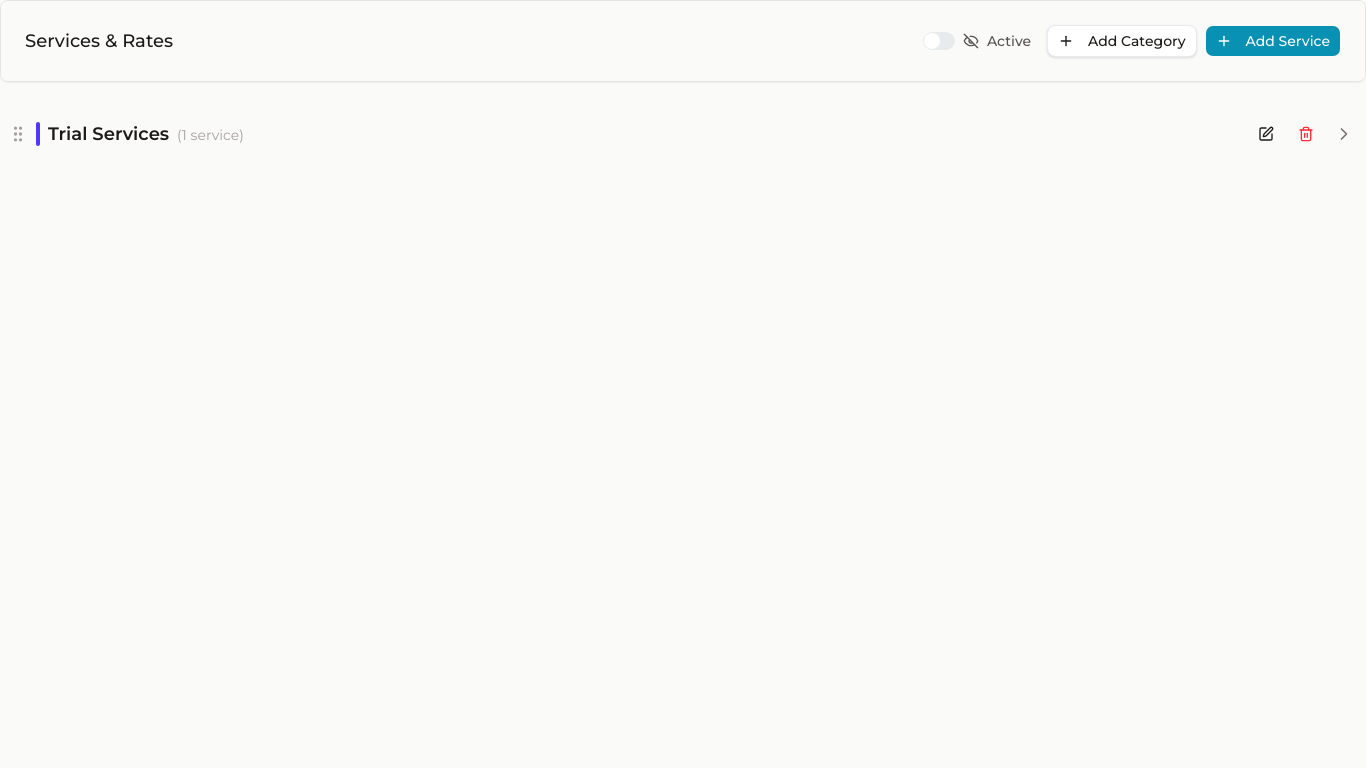
ServicesSettingsTab › opens the deactivate dialog when the service is used in a trial
This screenshot has width=1366, height=768.
Note: Expand the category first.
Click the text "Trial Services". click: (146, 134)
box: top-left (48, 120), bottom-right (244, 148)
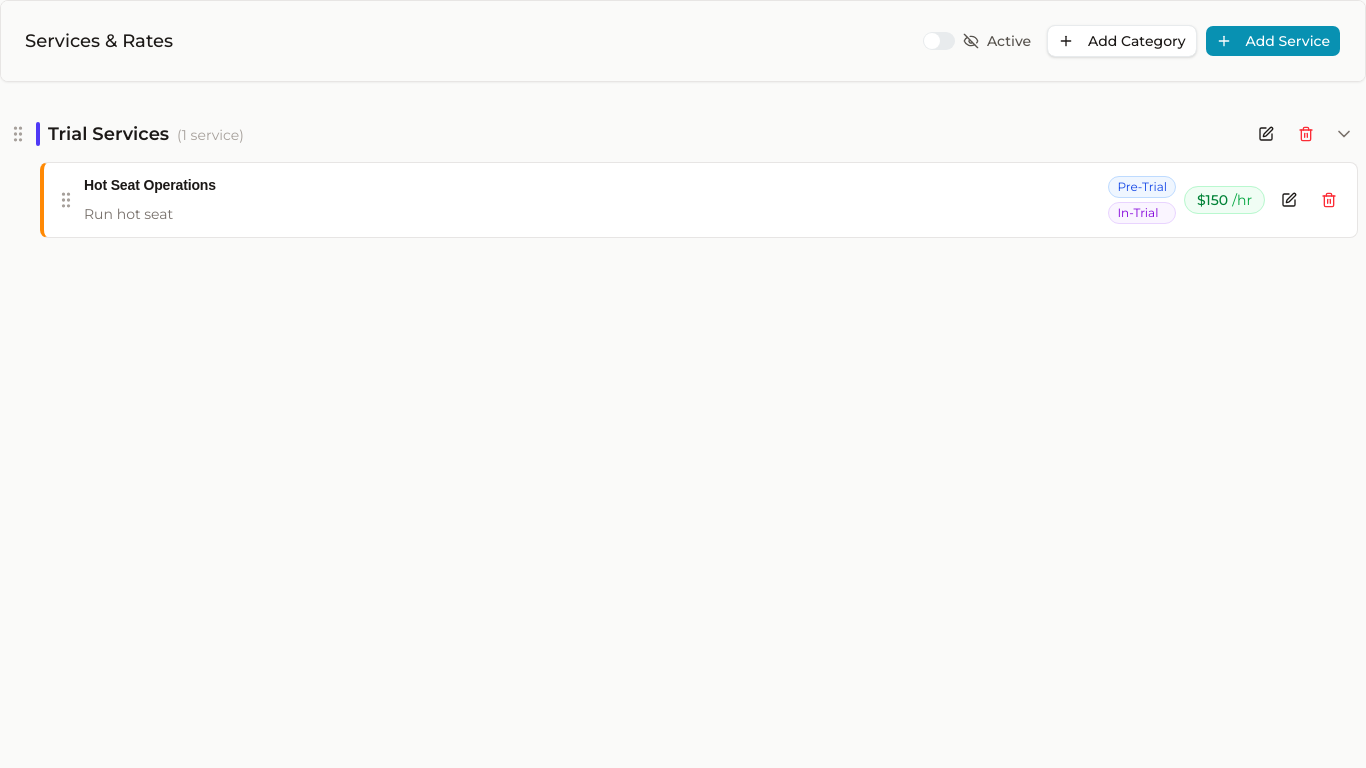
Click the button named "delete service". click: (1329, 200)
box: top-left (1313, 184), bottom-right (1345, 216)
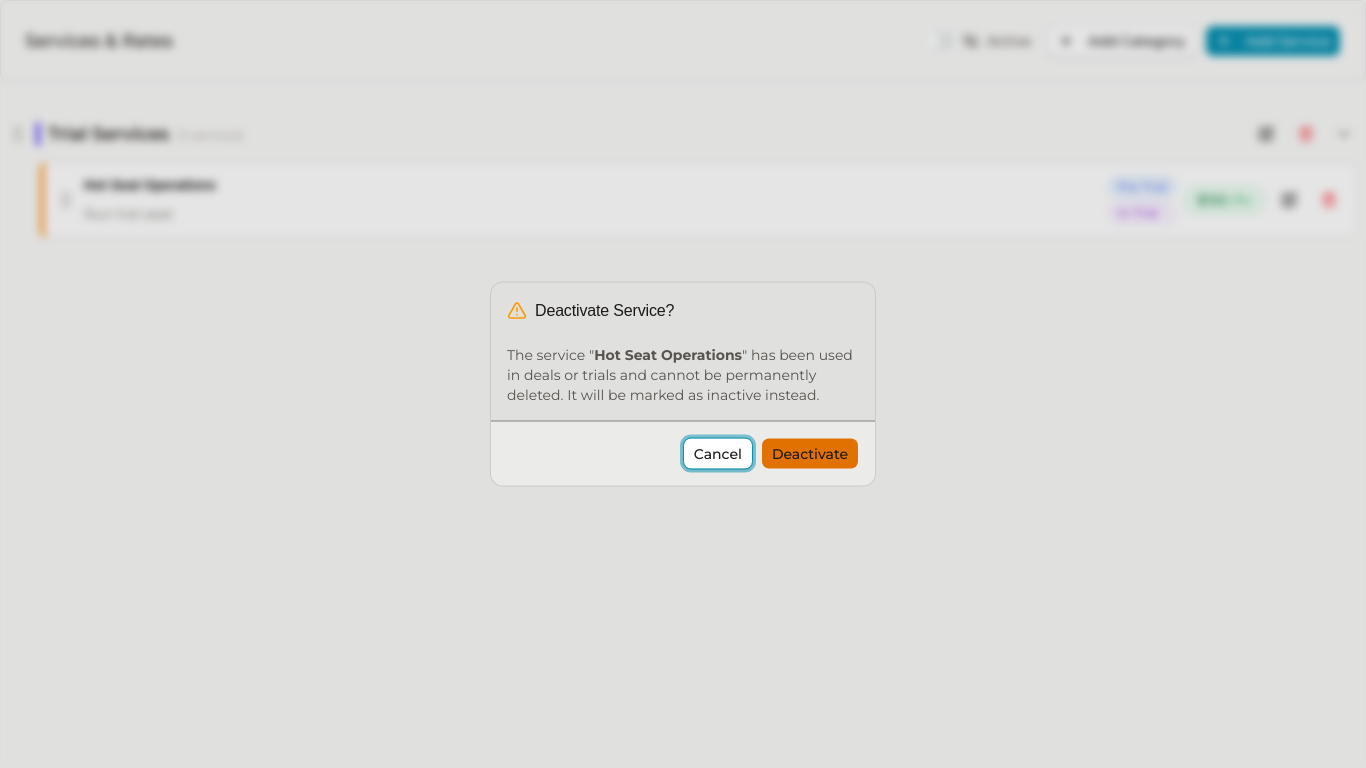
Now the heading "Deactivate Service?" is shown, box top-left (507, 298), bottom-right (674, 322)
Now the button "Deactivate" is shown, box top-left (761, 438), bottom-right (859, 470)
